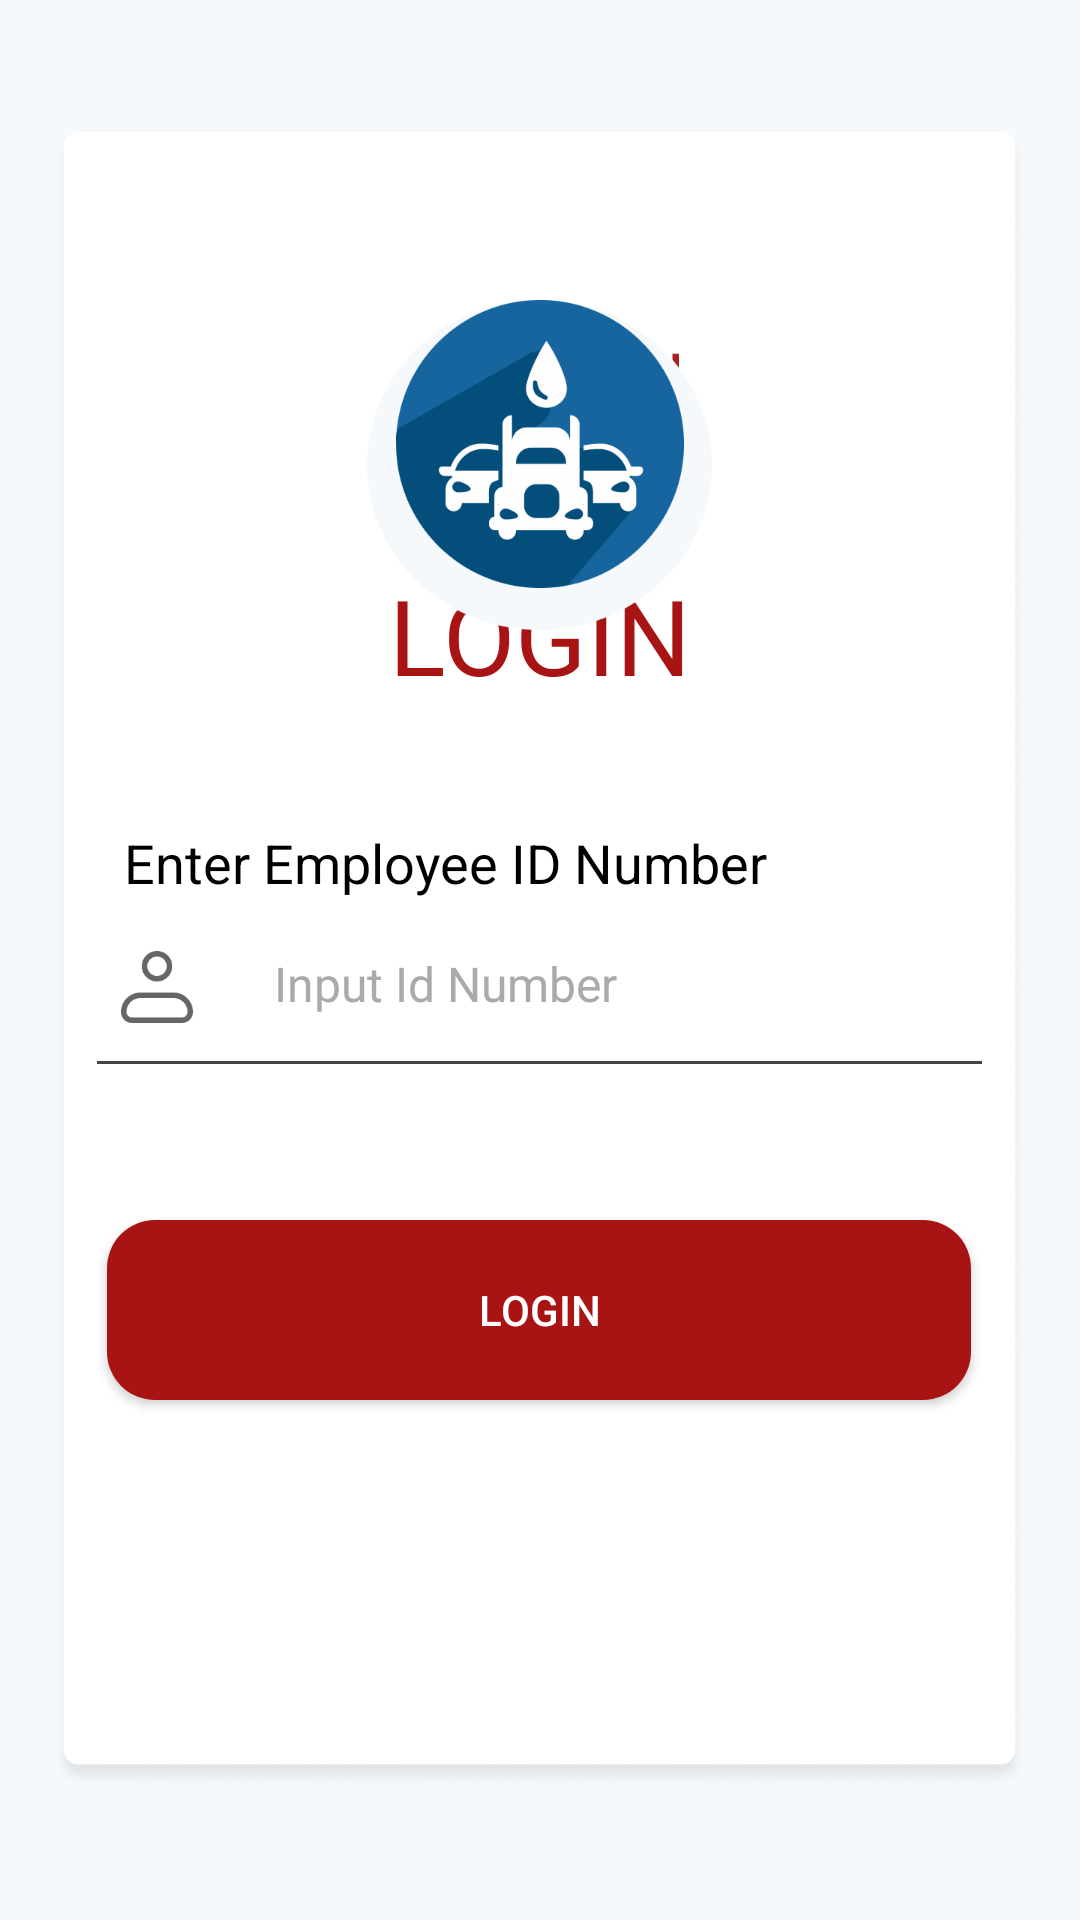

Screen size 1080w x 1920h. Icon name, then its box in pixels as bbox=[x1, y1, x2, y2]:
Account Icon: bbox=[121, 951, 193, 1023]
